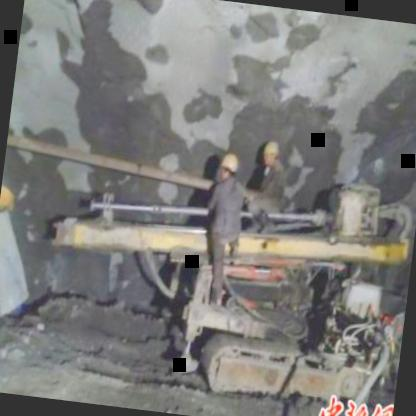helmet: (218, 152, 242, 184), (262, 135, 284, 169)
